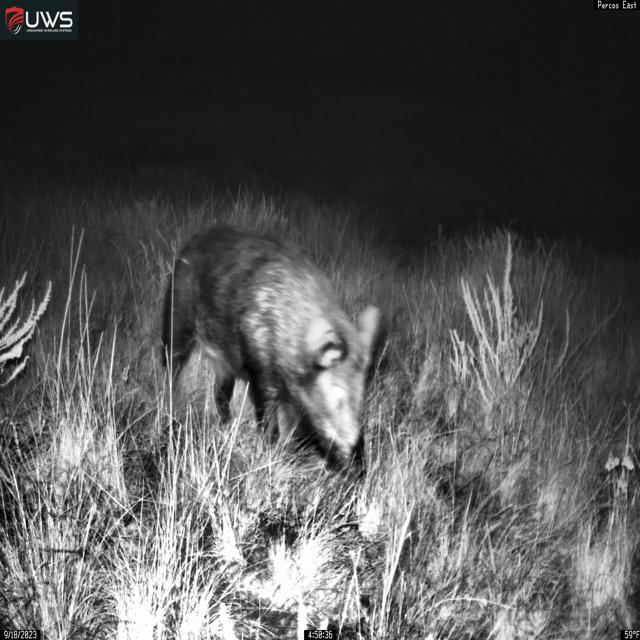pig: (160, 222, 382, 480)
